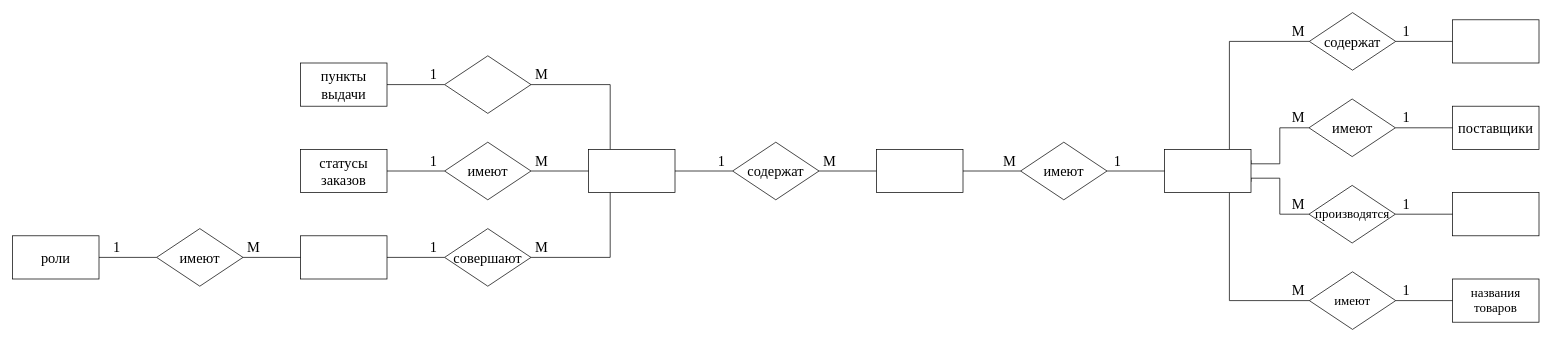
Image size: 1552x342. Some labels were removed from this diagram. Each missing label, with the centre of its shape:
заказы: (631,171)
заказы товаров: (919,171)
категории товаров: (1495,41)
пользователи: (343,257)
производитель: (1495,214)
товары: (1207,171)
хранятся в: (487,84)
